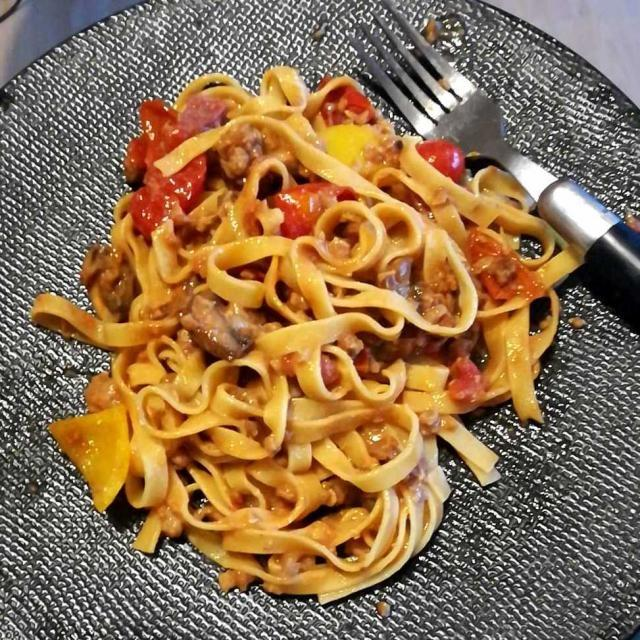pasta: (67, 81, 553, 596)
sauce: (52, 101, 506, 590)
